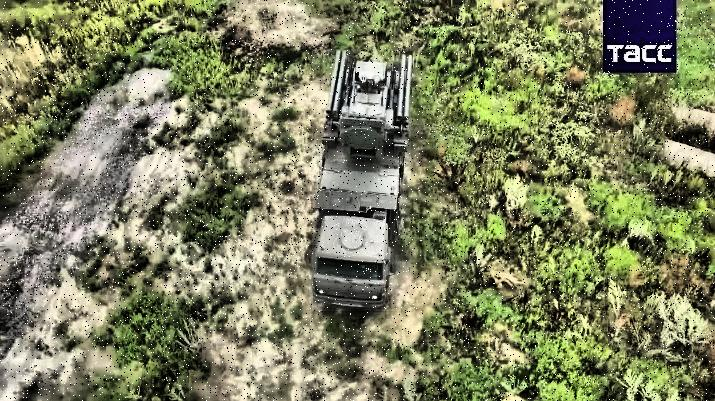military-vehicle: (312, 49, 411, 311)
